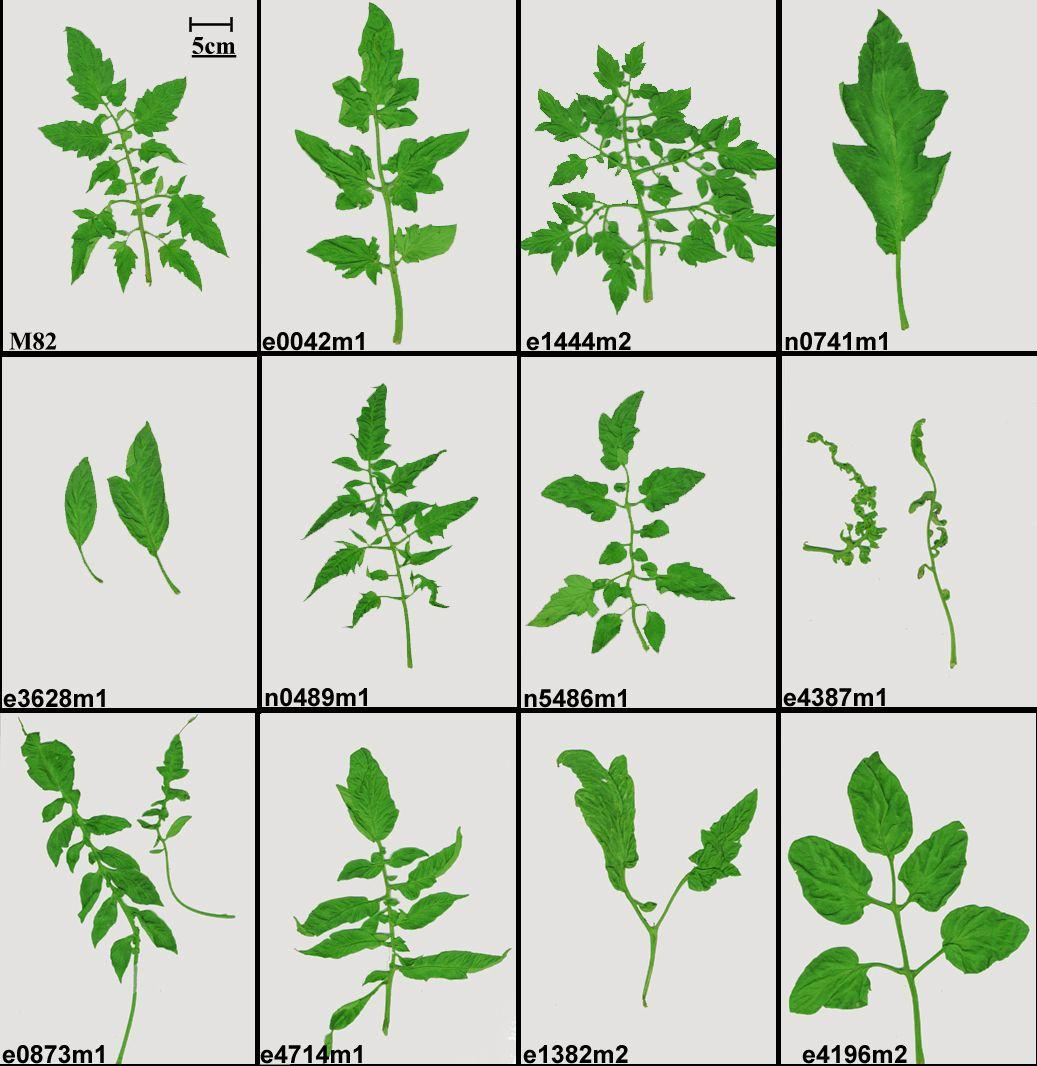Tomato leaf bacterial spot: (810, 11, 966, 259), (333, 5, 416, 136), (290, 128, 373, 214), (382, 121, 469, 202), (379, 224, 473, 276), (347, 373, 402, 461), (596, 374, 639, 479), (626, 465, 715, 514)
